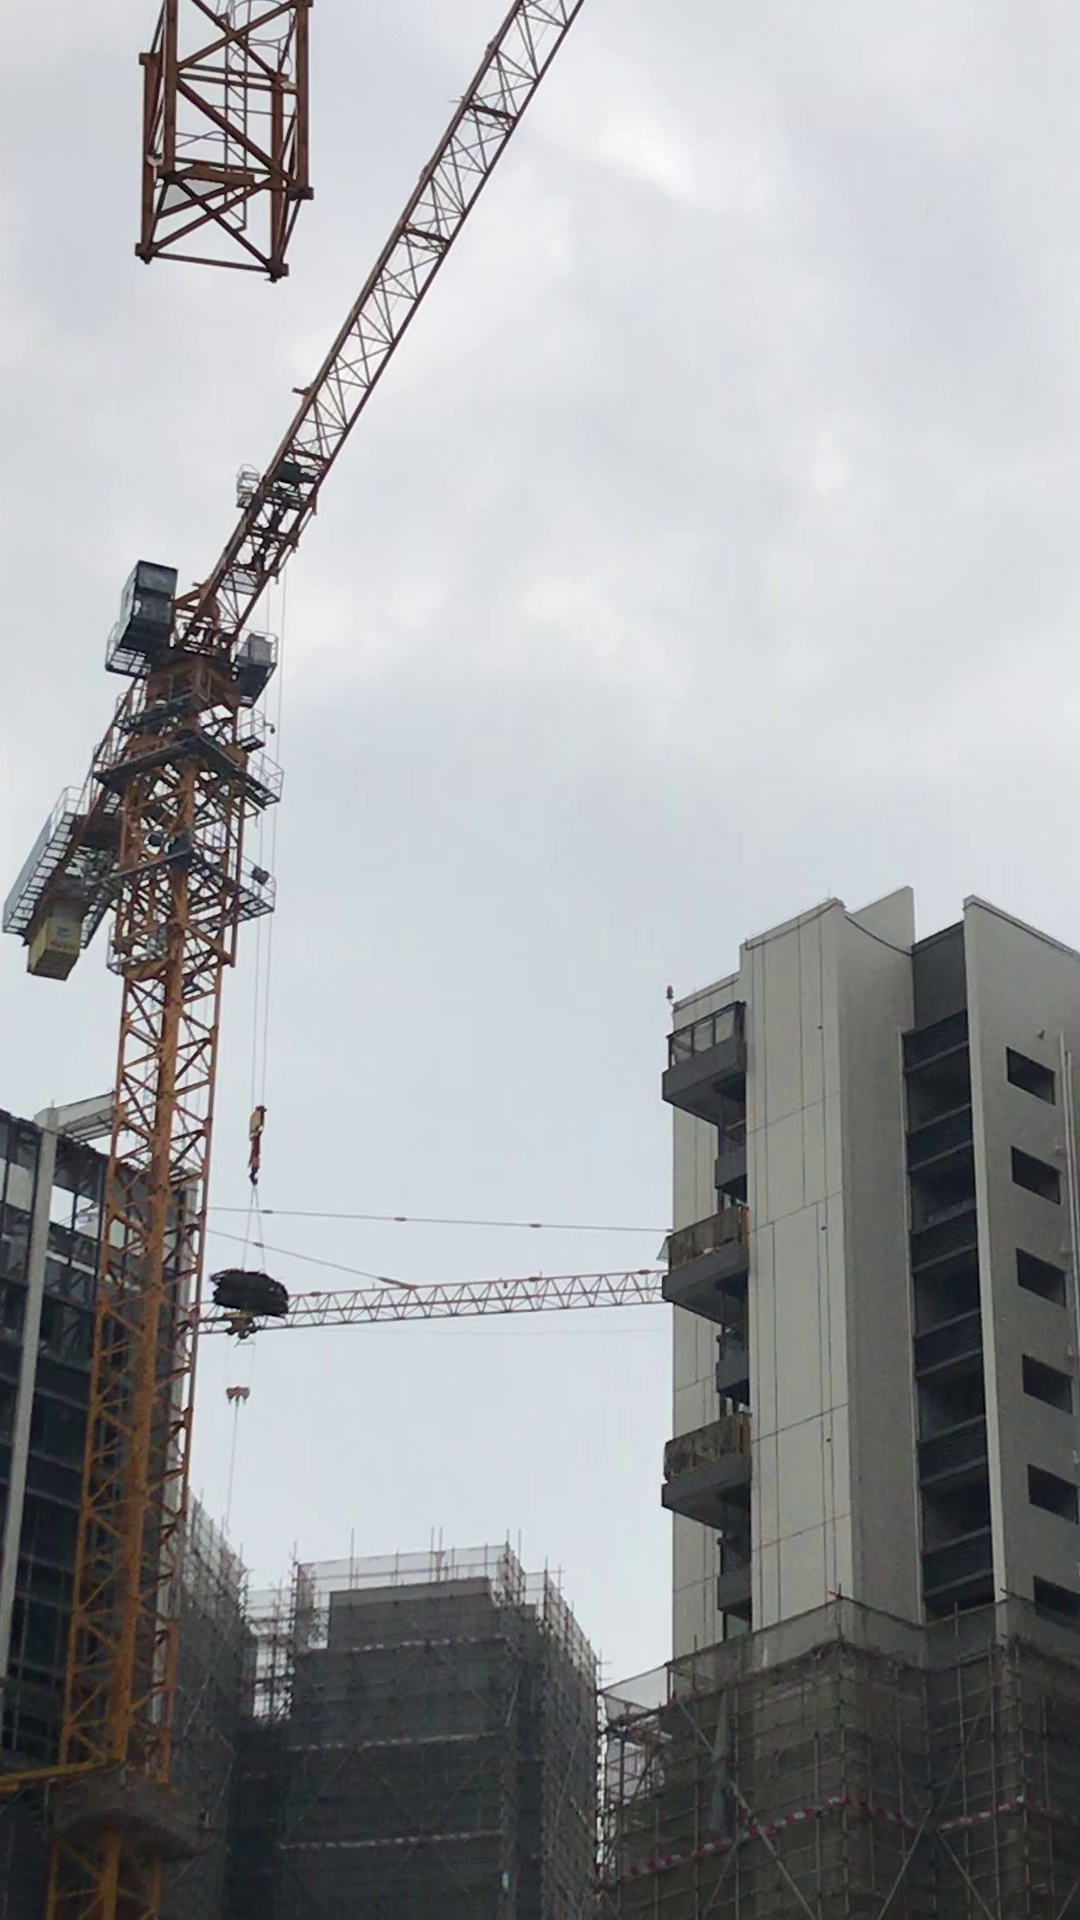board: (207, 1265, 293, 1317)
hook: (243, 1112, 276, 1192), (222, 1385, 252, 1404)
